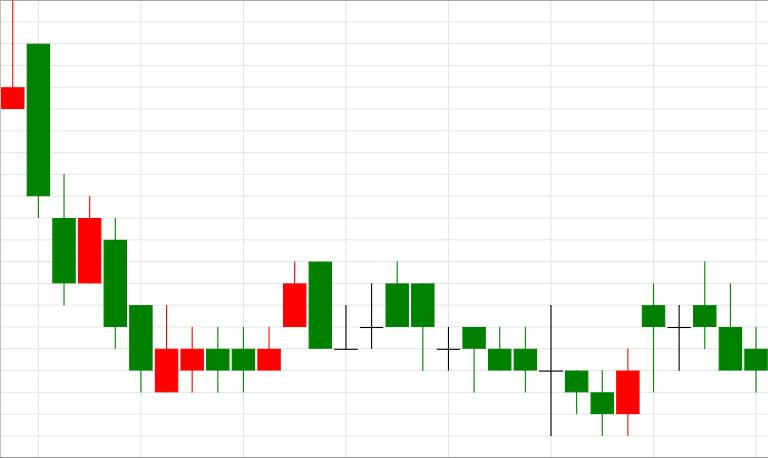bearish_engulfing_fall: (155, 261, 332, 394)
bullish_engulfing_rise: (386, 262, 640, 436)
